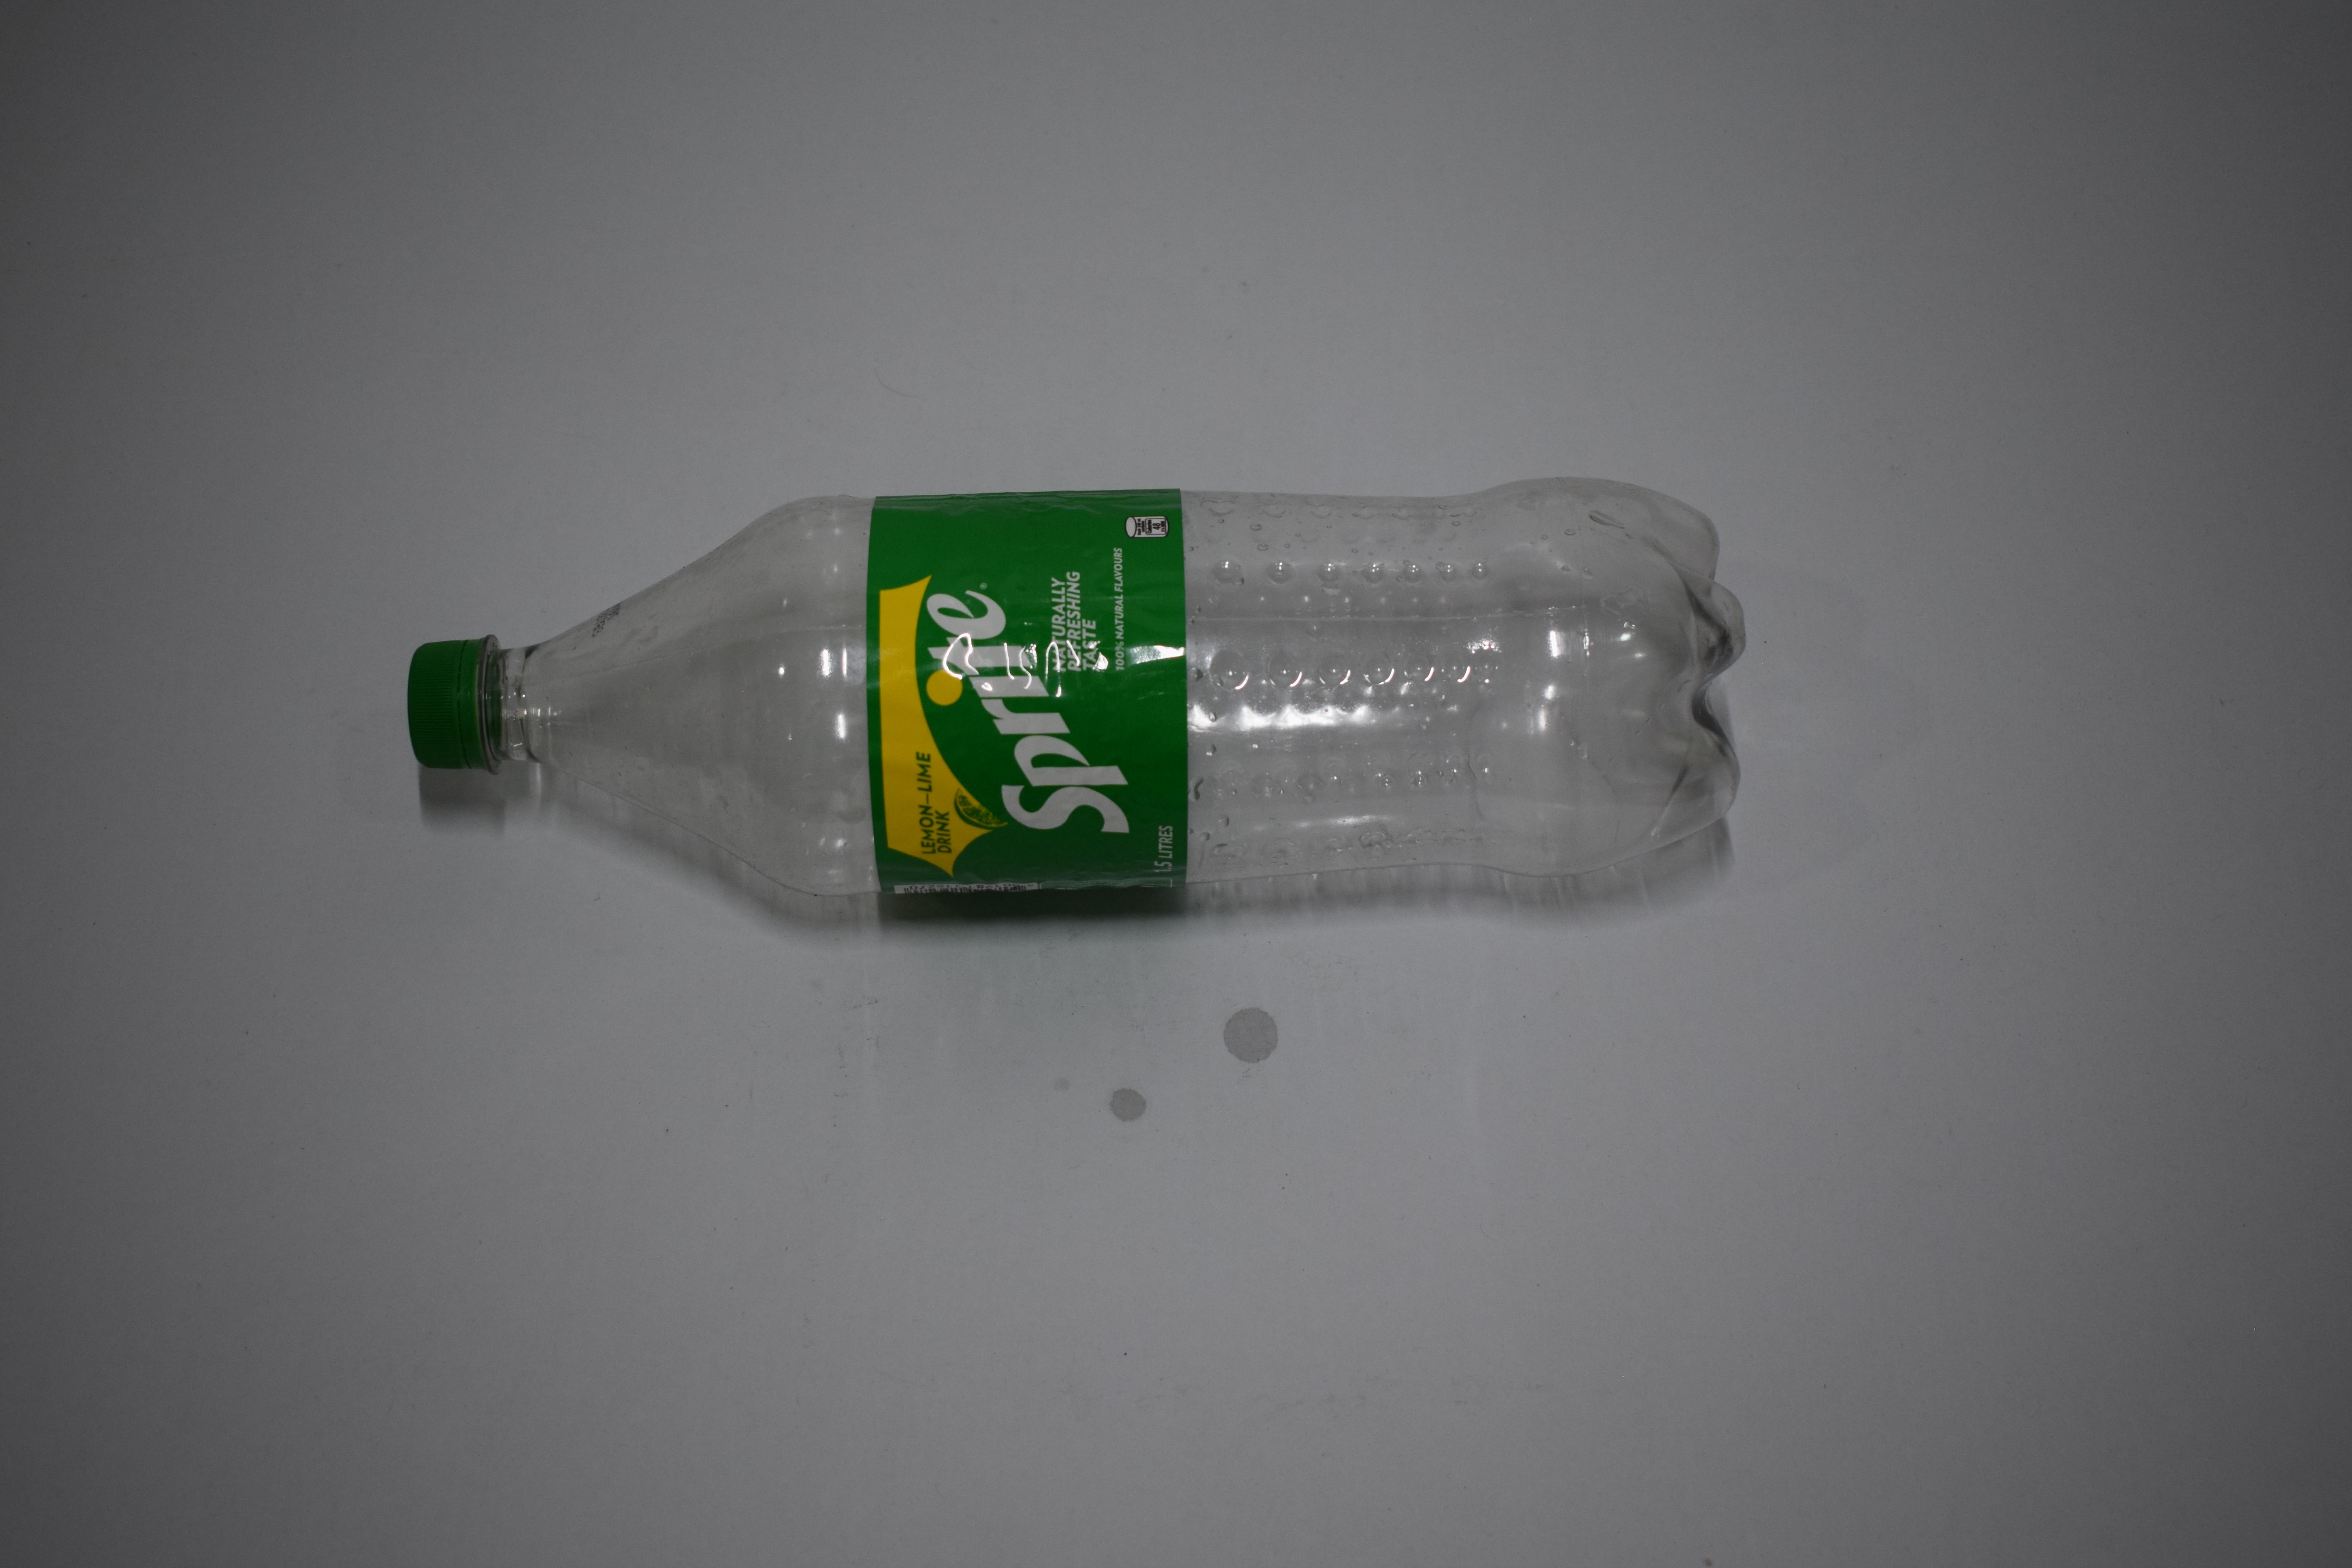bottle: (863, 467, 1024, 940)
